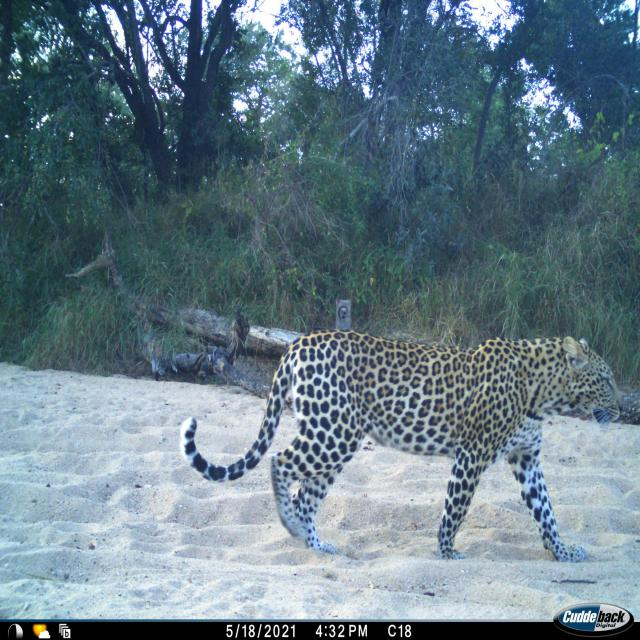Leopard: (185, 319, 620, 569)
